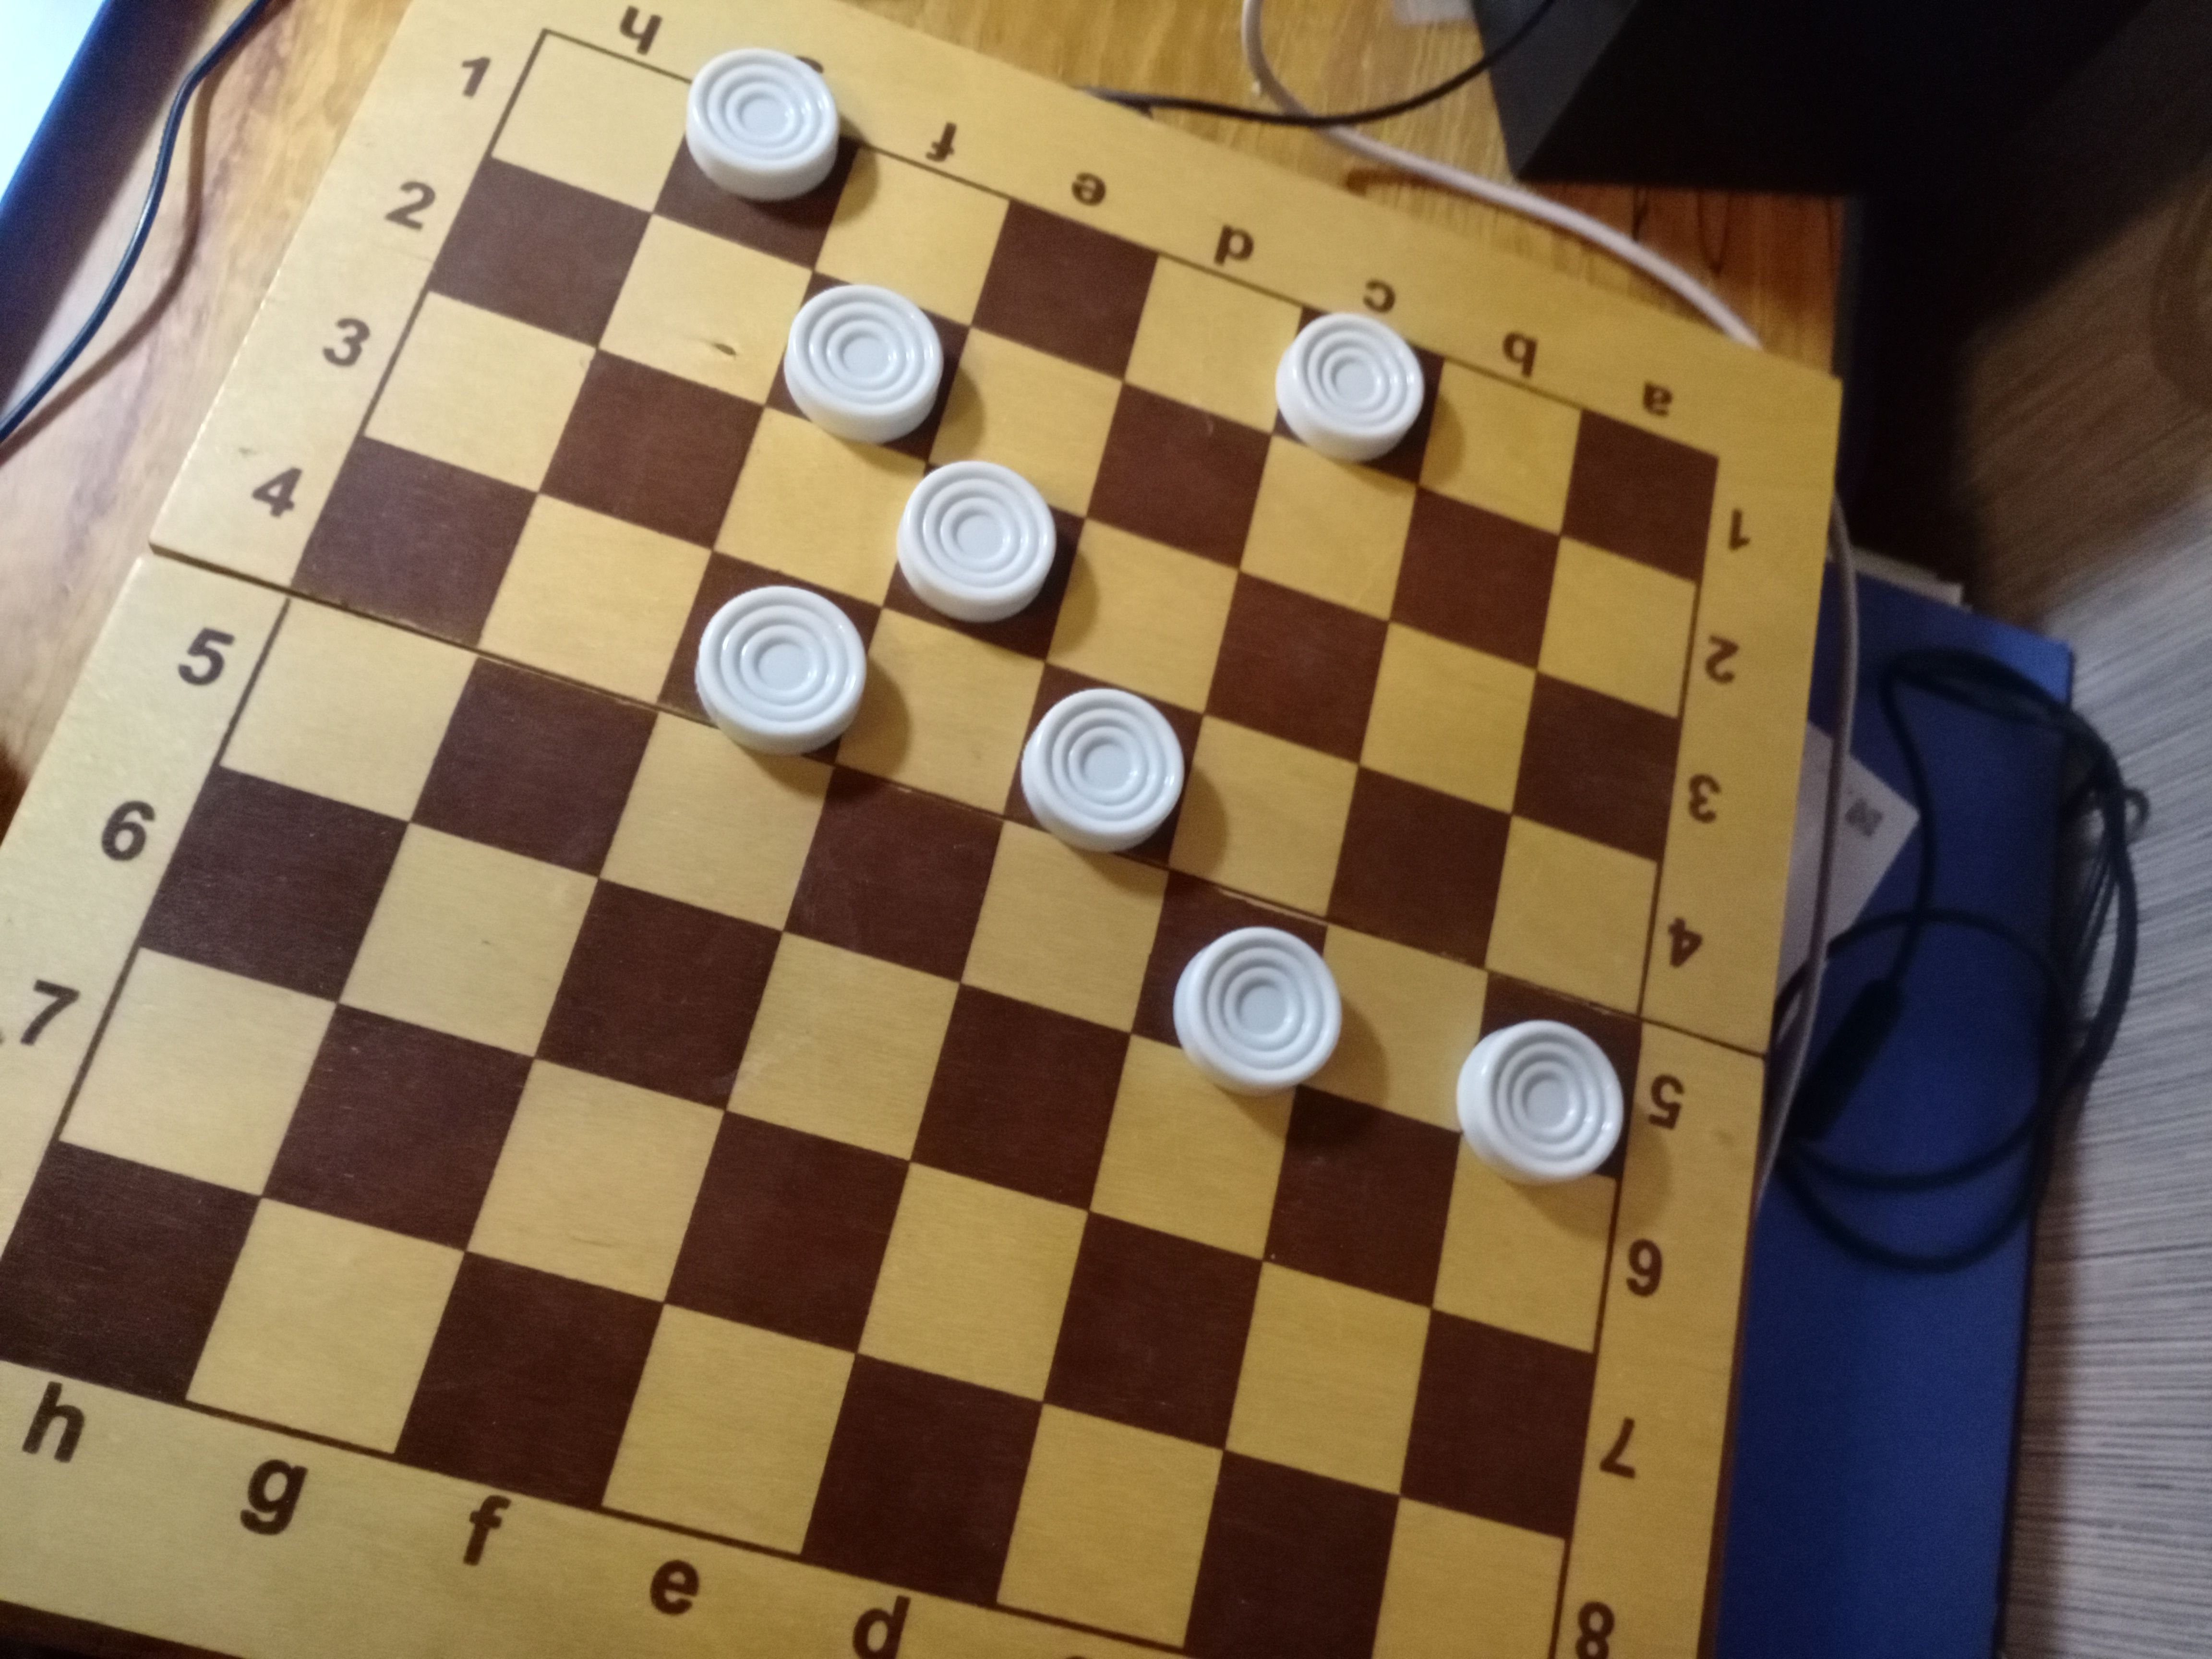White_Draught: (657, 551, 883, 767), (1130, 871, 1343, 1098), (651, 49, 859, 270), (883, 462, 1089, 666), (1003, 664, 1204, 870), (1456, 974, 1642, 1187), (766, 270, 970, 462), (1270, 305, 1446, 484)
